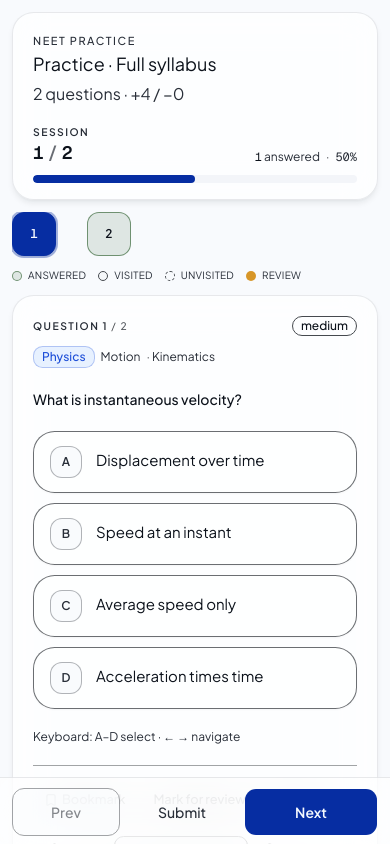
Test: PREMIUM-005 practice runner › navigates with palette jump semantics preserved
Step 1. Click the button named "Question 2" → (109, 234), box [87,212,131,256]
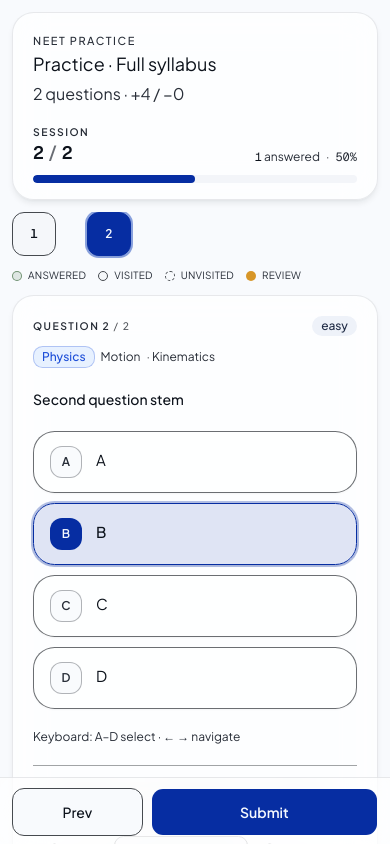
Result: the element with test id "practice-runner-stem" reads "Second question stem" at [33,390,184,408]
